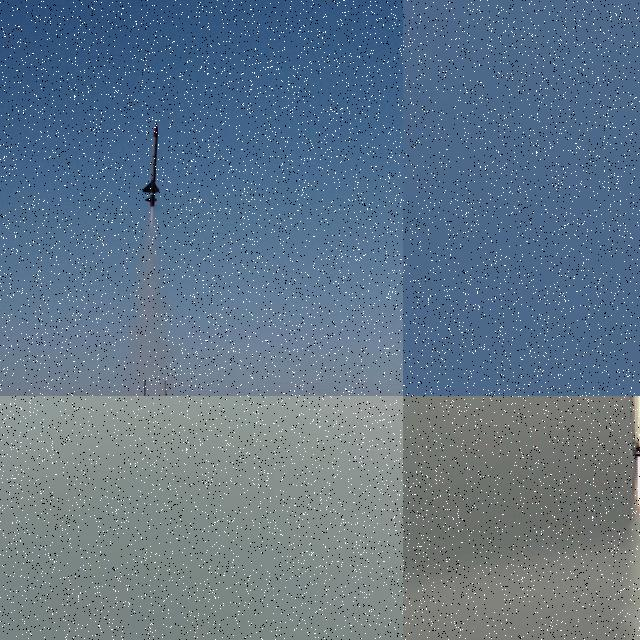Rocket: (142, 121, 161, 208), (627, 396, 640, 457)
